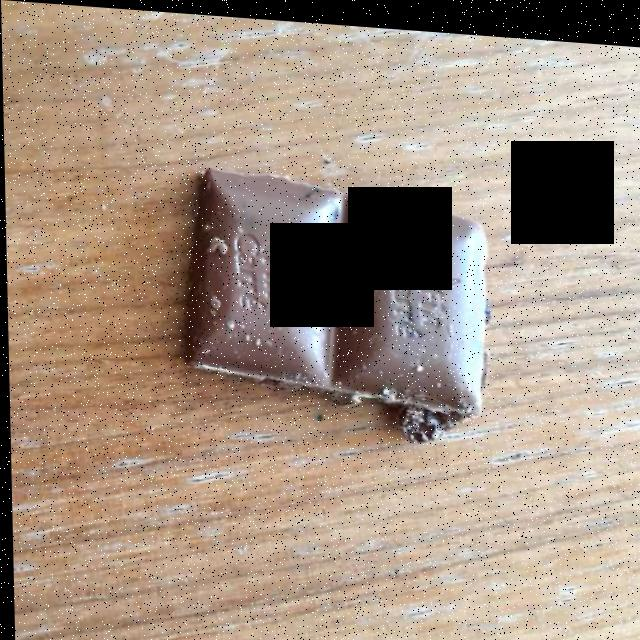milk-chocolate: (183, 168, 485, 415)
